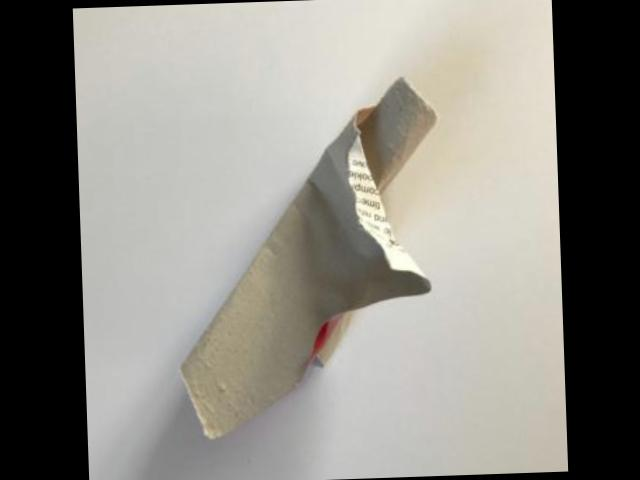cardboard paper: (184, 78, 436, 436)
